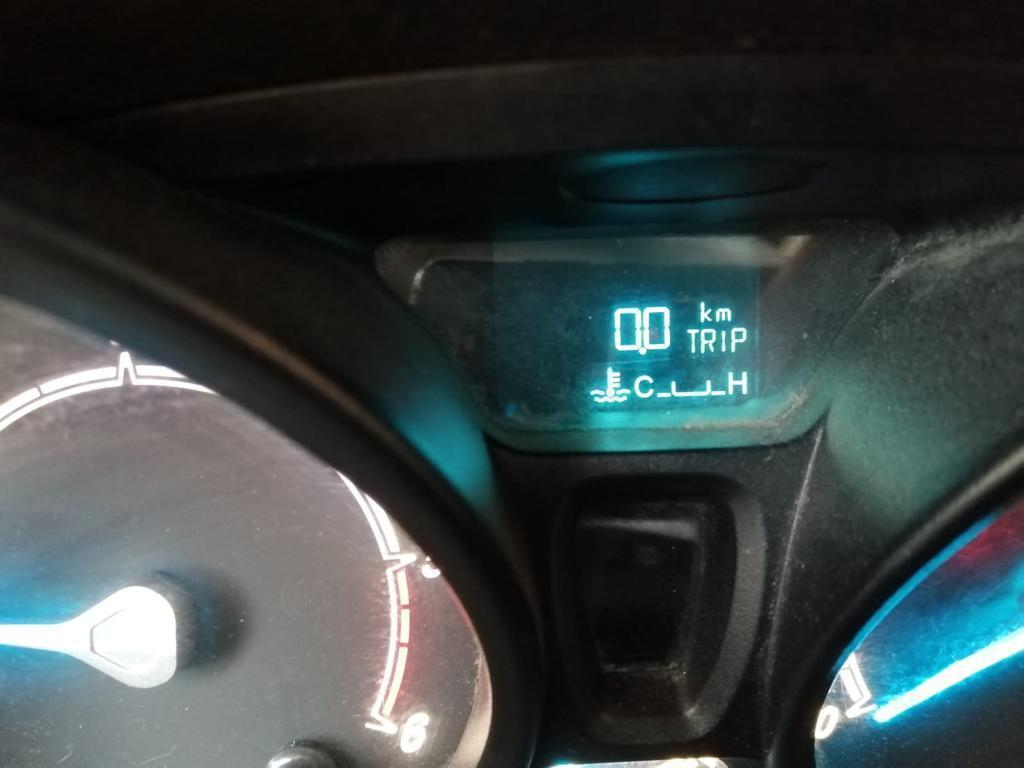,: (637, 346, 647, 355)
0: (612, 305, 642, 351), (642, 304, 671, 350)
X: (726, 369, 749, 396), (728, 325, 749, 354), (632, 373, 654, 399), (700, 326, 717, 354), (684, 327, 699, 354), (698, 299, 712, 324), (714, 305, 732, 323), (718, 328, 727, 353)
odometer: (472, 251, 802, 423)
